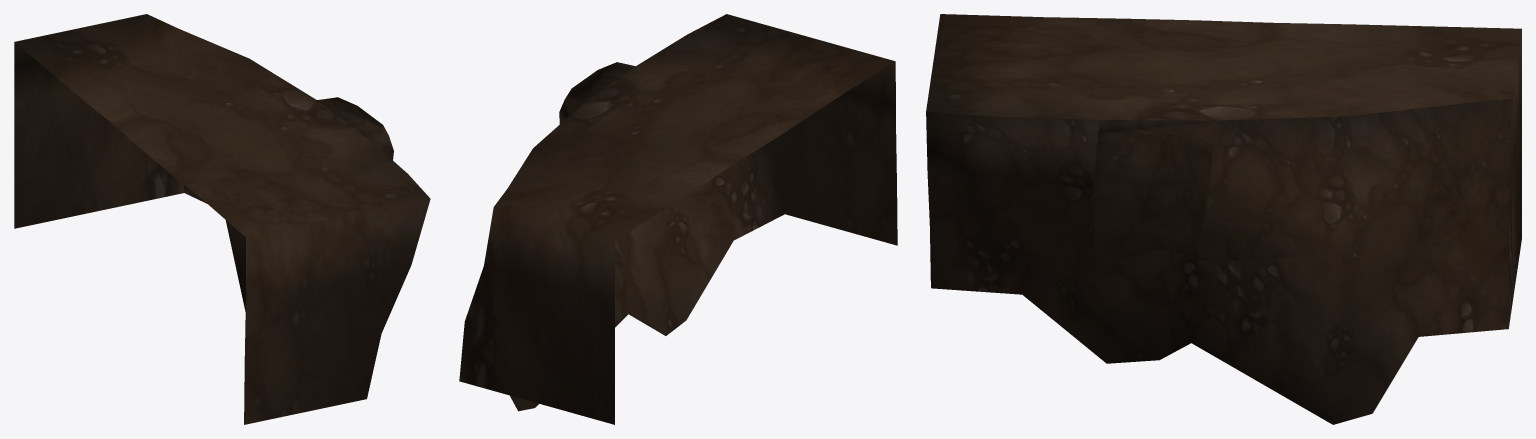
File: Floor_isla_001.fbx
3 views of the same model, side by side, from view 1: azimuth 30°, elevation 25°; view 2: azimuth 150°, elevation 25°; view 3: azimuth 270°, elevation 25° (orthographic). The views are drawn at different scales.
Parts seen in each view (by area): view 1: pCube72; view 2: pCube72; view 3: pCube72.
Boxes of the visible parts, <box> form: pCube72: <box>14,14,430,424</box>; pCube72: <box>459,14,897,424</box>; pCube72: <box>926,14,1521,424</box>.
Size of the model in its own units: 666 by 770 by 1361.
